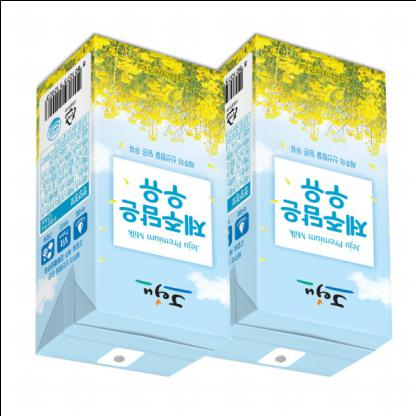tetra: (14, 26, 236, 406)
